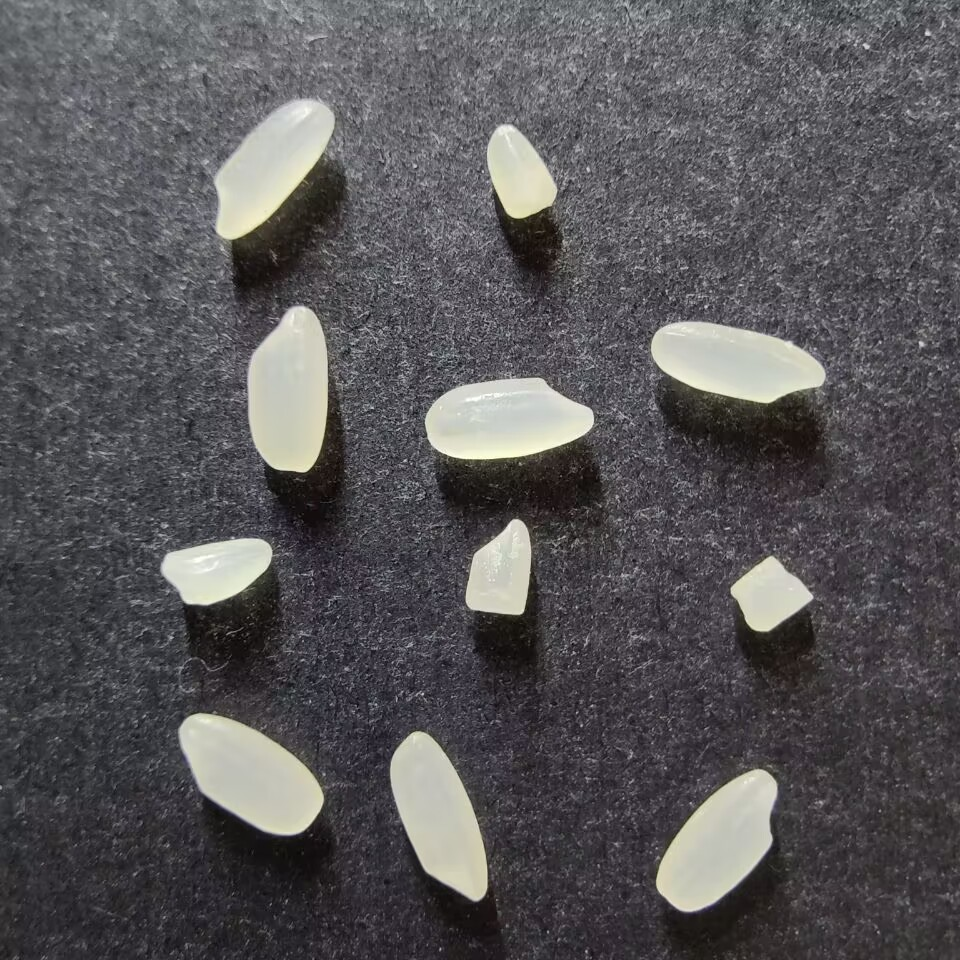broken: (160, 537, 272, 605), (486, 124, 557, 219), (729, 555, 813, 632), (465, 518, 531, 615)
rice: (178, 712, 323, 835), (654, 768, 777, 912), (213, 98, 335, 240), (388, 730, 488, 902), (650, 320, 826, 403), (424, 377, 594, 460), (246, 306, 328, 473)
